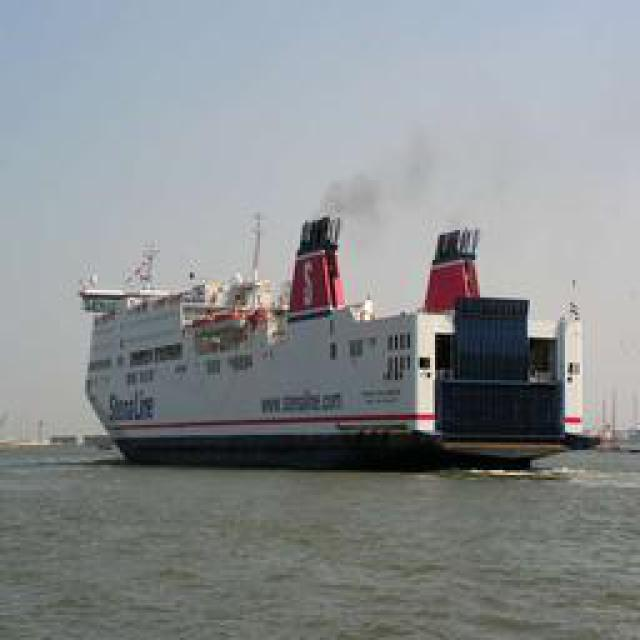Ship: (84, 207, 594, 465)
